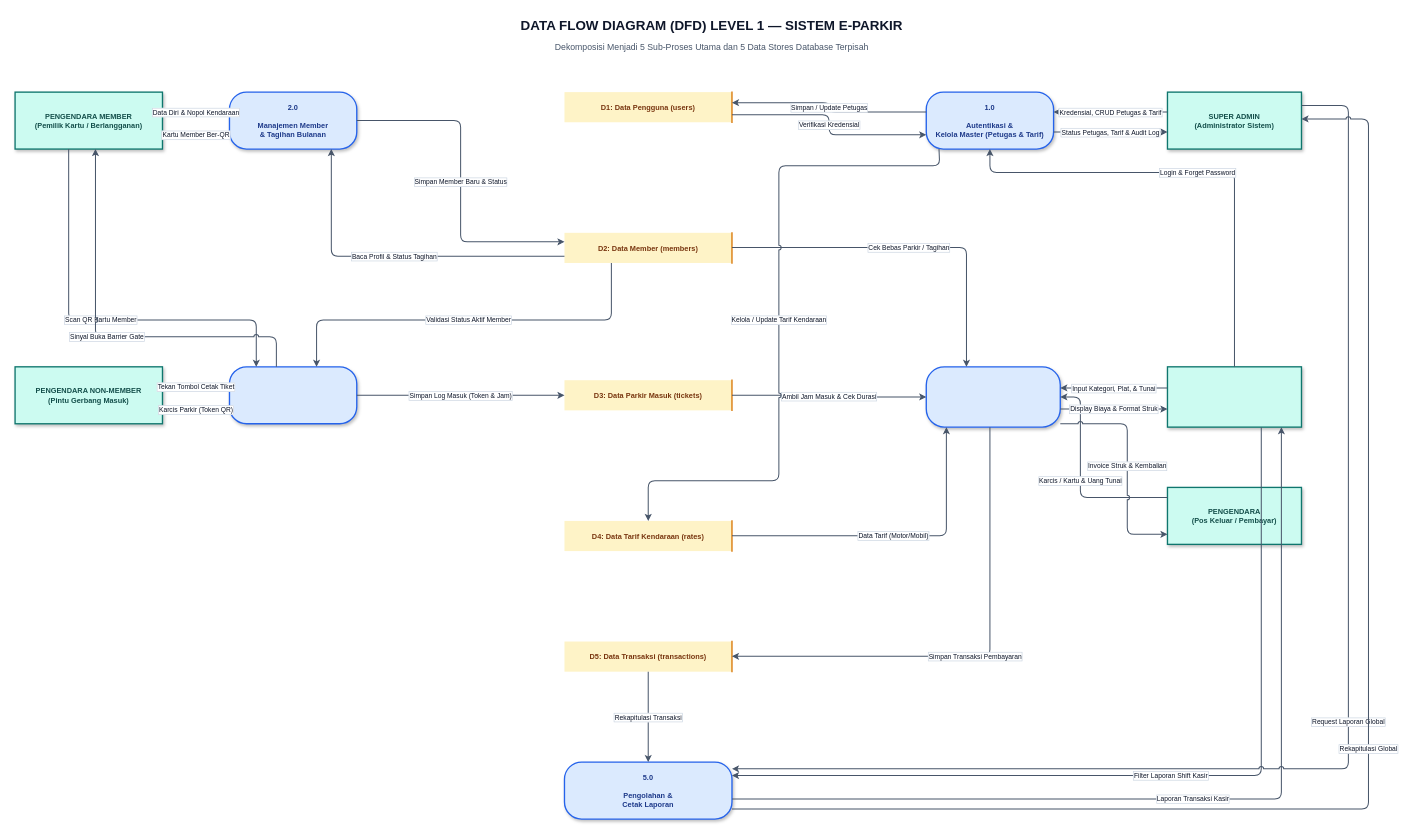
Image size: 1409x835. Some labels were removed from this diagram. Here are the shapes that lost their labels. From the top down, the centre of each, then its label:
the point at 293,396: 3.0 Pelayanan Gerbang Masuk (Entry Gate)
the point at 994,397: 4.0 Transaksi Pembayaran Pos Keluar (Kasir)
the point at 1235,397: PETUGAS E-PARKIR (Kasir Pos Keluar)
